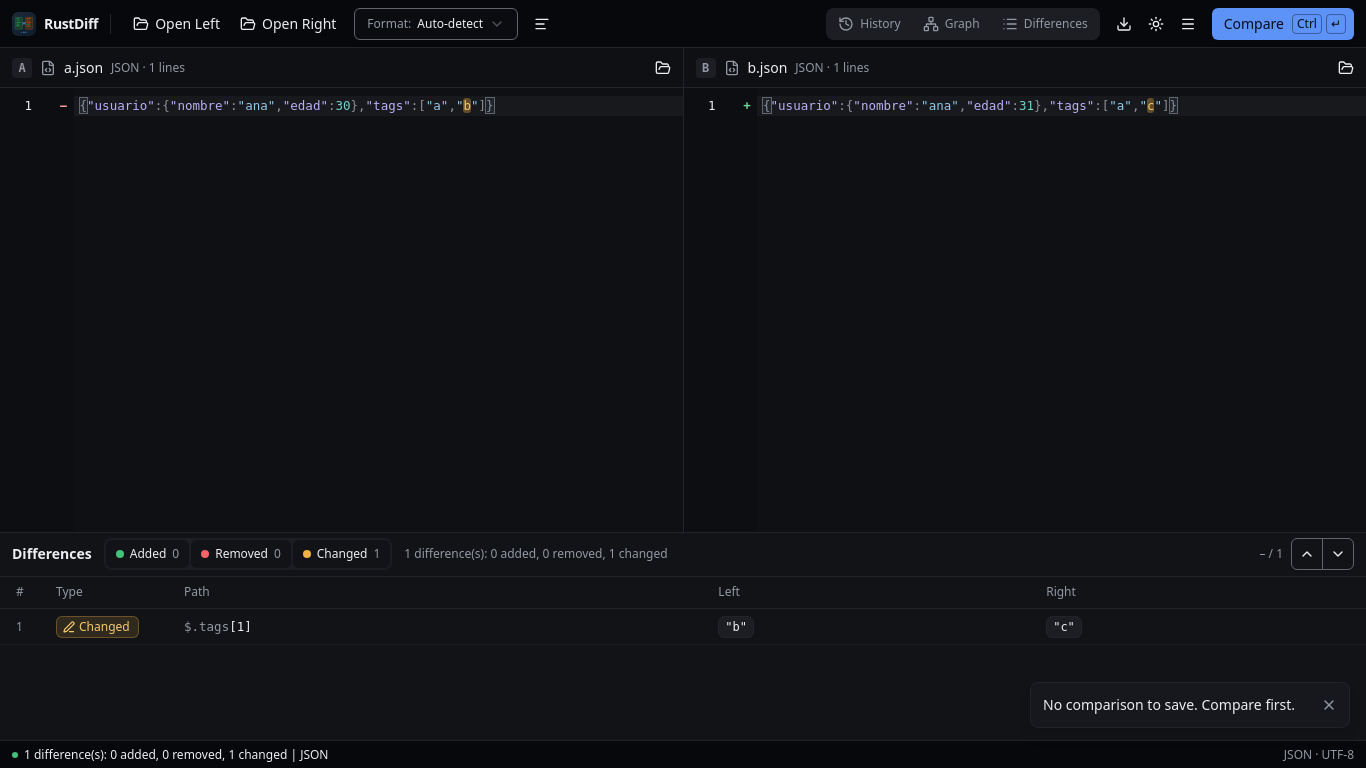
Scenario: App › Ctrl+S guarda, abre el historial y una sesión se restaura en los dos editores
Expected: the table with test id "diff-table" shows "$.tags[1]", [0,577,1365,645]
Press s
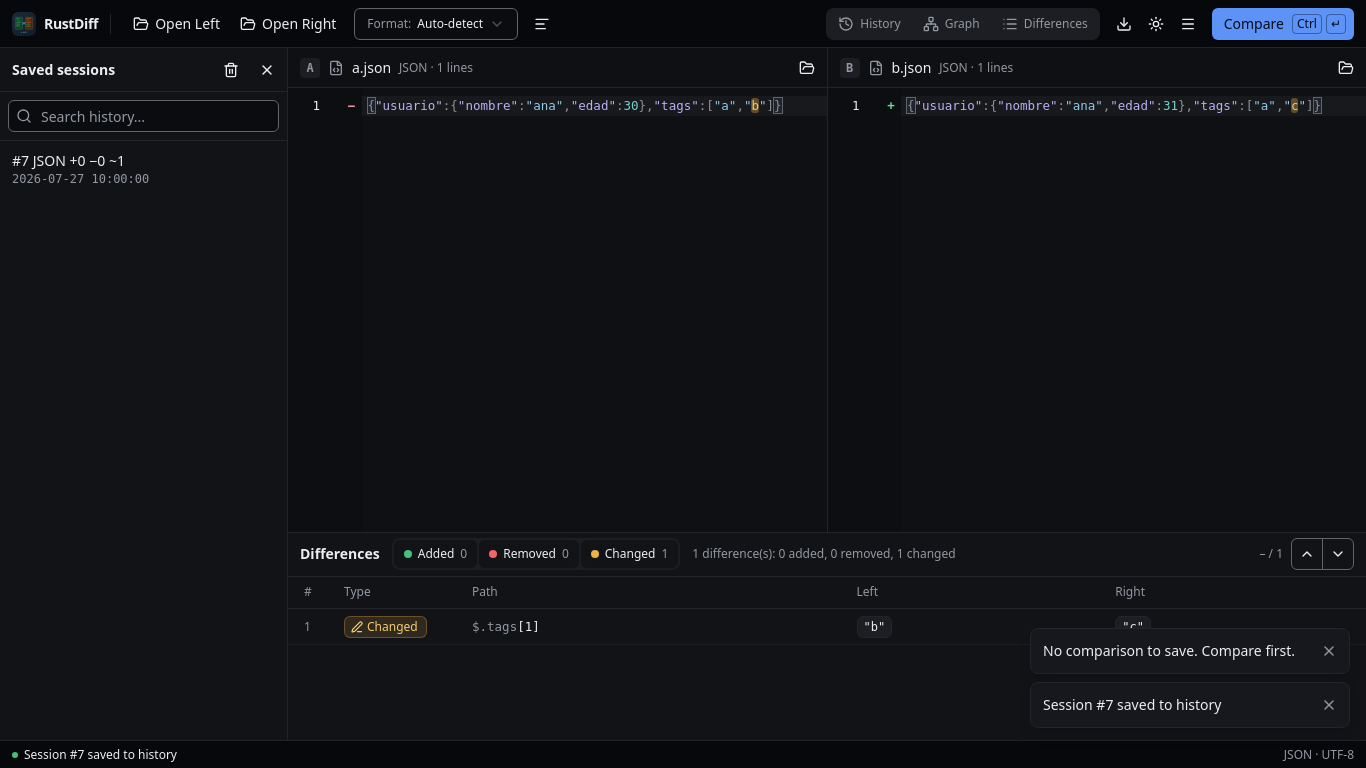
Expected: the message with test id "status" reads "Session #7 saved to history", [24,746,177,762]
Expected: the element with test id "history-sidebar" shows "#7 JSON +0 −0 ~1", [0,48,288,740]
Click the text "#7 JSON +0 −0 ~1" at (68,160), box [12,151,125,170]
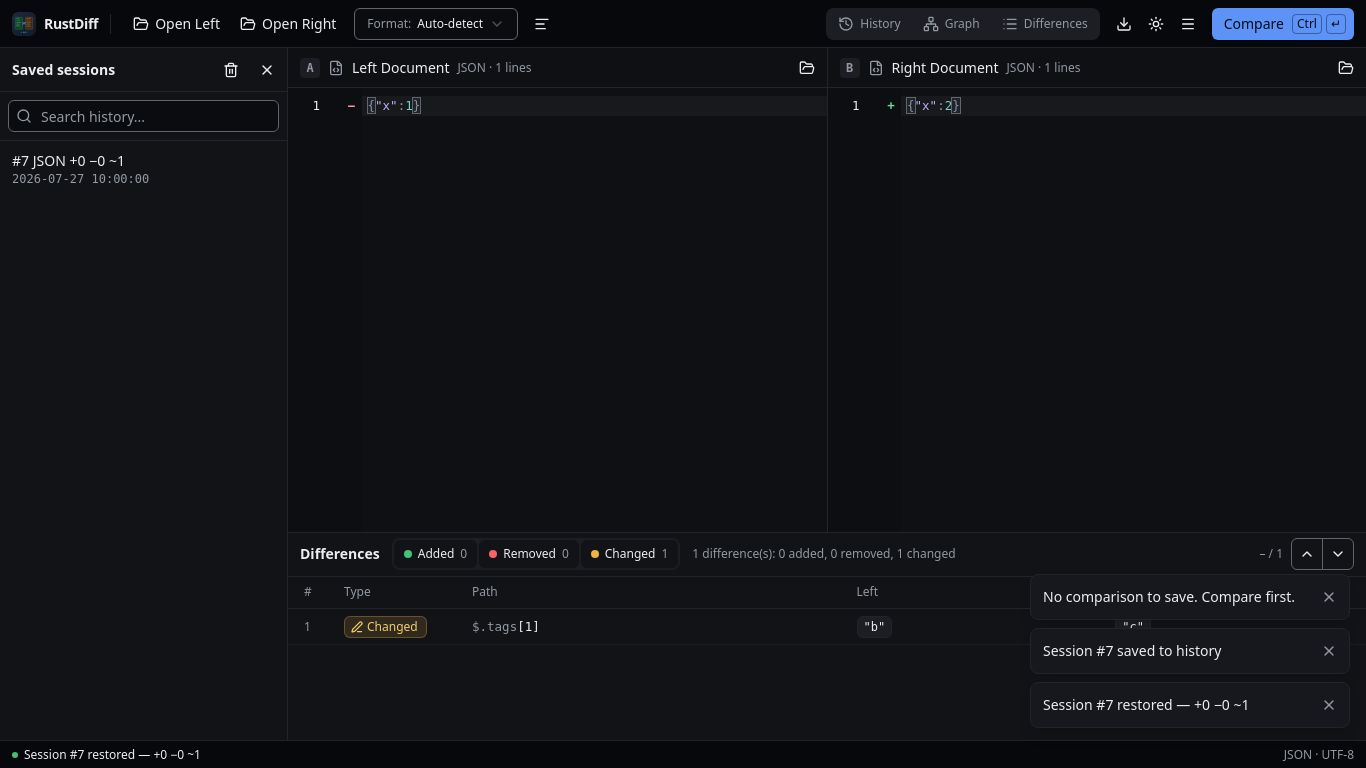
Expected: the message with test id "status" reads "Session #7 restored — +0 −0 ~1", [24,746,201,762]
Expected: the element with test id "code-editor" shows "{\"x\":1}", [288,88,826,532]
Expected: the element with test id "code-editor" shows "{\"x\":2}", [828,88,1365,532]
